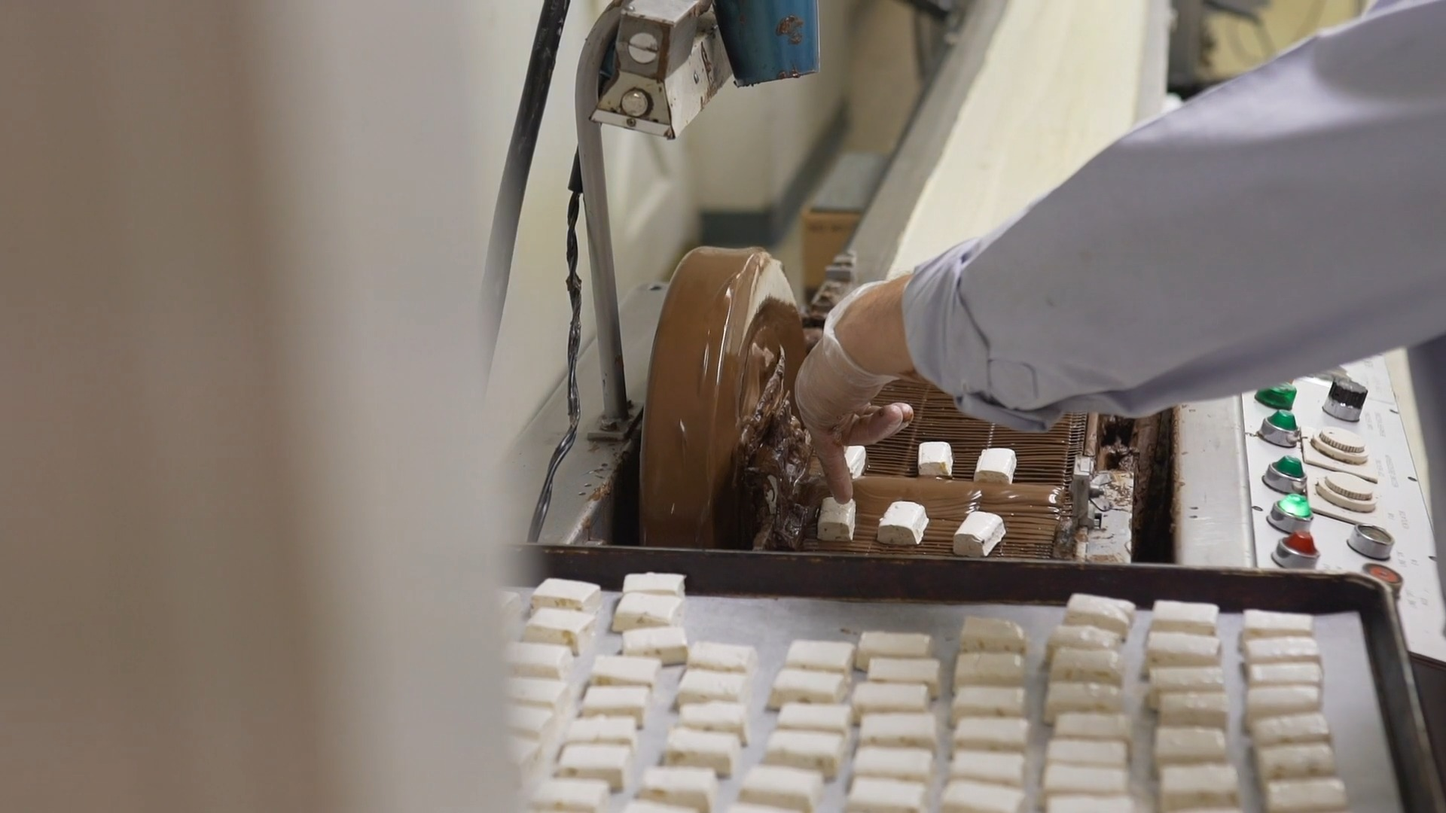gloves: (786, 271, 916, 499)
